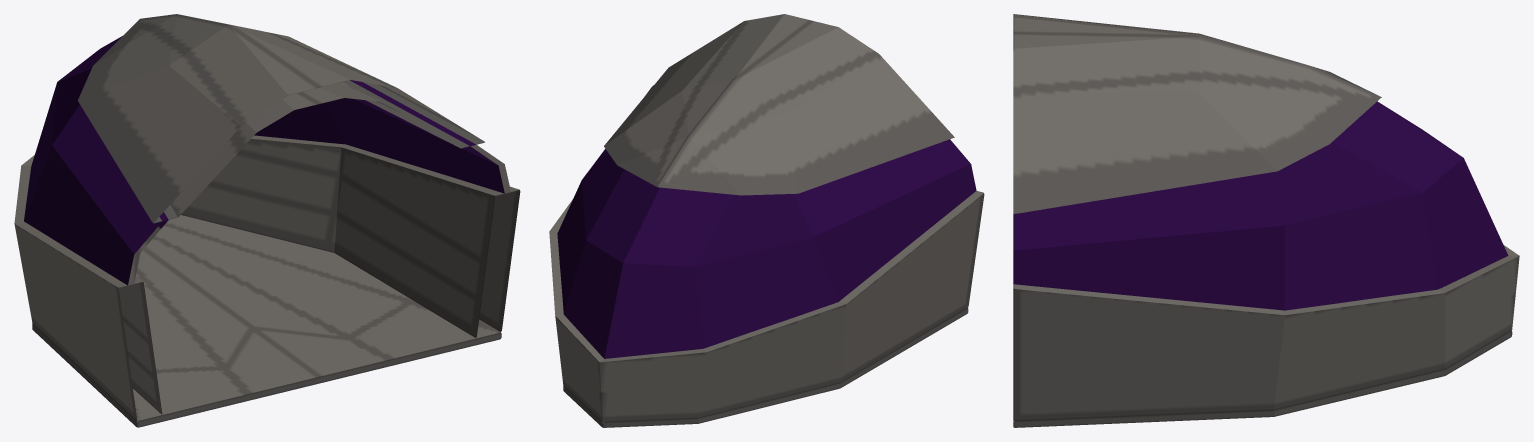
Rendered from cockpit.obj.
The picture shows the model from 3 angles, left to right: view 1: azimuth 30°, elevation 25°; view 2: azimuth 150°, elevation 25°; view 3: azimuth 270°, elevation 25°; orthographic projection. The views are drawn at different scales.
Visible parts, largest first — view 1: wall_l, floor, wall_u, window; view 2: window, wall_u, wall_l, floor; view 3: window, wall_l, wall_u, floor.
Boxes of the visible parts, x1,y1,x2,y2 form: wall_l: (14,135,520,420); floor: (32,215,501,427); wall_u: (78,14,484,223); window: (24,36,510,285); window: (557,85,976,358); wall_u: (604,14,954,195); wall_l: (549,191,984,422); floor: (563,308,968,427); window: (1013,101,1508,310); wall_l: (1013,245,1519,420); wall_u: (1013,14,1381,214); floor: (1013,330,1512,427).
Size of the model in its own units: 4 by 2.81 by 4.25.
Materials: 1 (1 with a texture image).
